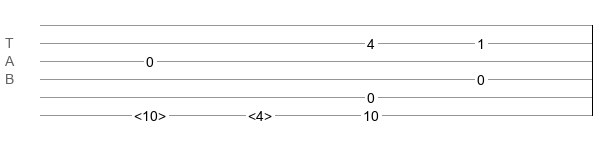0: (146, 54, 154, 64), (367, 90, 375, 100), (477, 72, 485, 82)
1: (477, 36, 485, 46)
10: (363, 108, 379, 118)
4: (367, 36, 375, 46)
harmonic: (134, 108, 166, 118), (248, 108, 272, 118)
